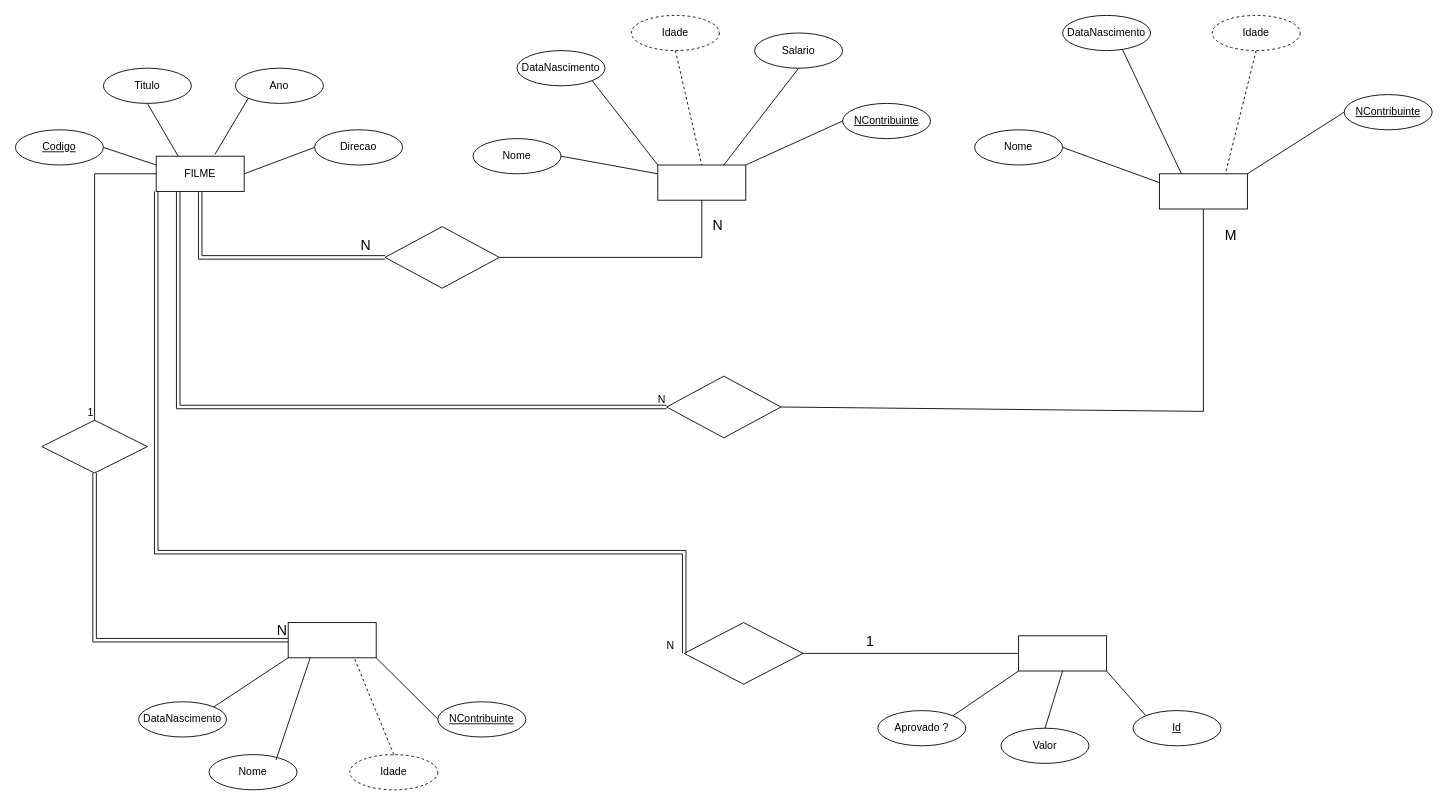
Image size: 1448x805. Some labels were removed from this diagram. Here are the shapes that lost their labels. From the top down, the box of each, then its label:
(657, 164, 746, 200): ATOR
(1159, 173, 1247, 209): REALIZADOR
(384, 226, 499, 288): ENTRAR_EM
(666, 375, 781, 438): REALIZA
(41, 419, 147, 473): PRODUTOR_DE
(287, 622, 376, 658): PRODUTOR
(683, 622, 803, 684): POSSUEM
(1018, 635, 1107, 671): ORCAMENTO
